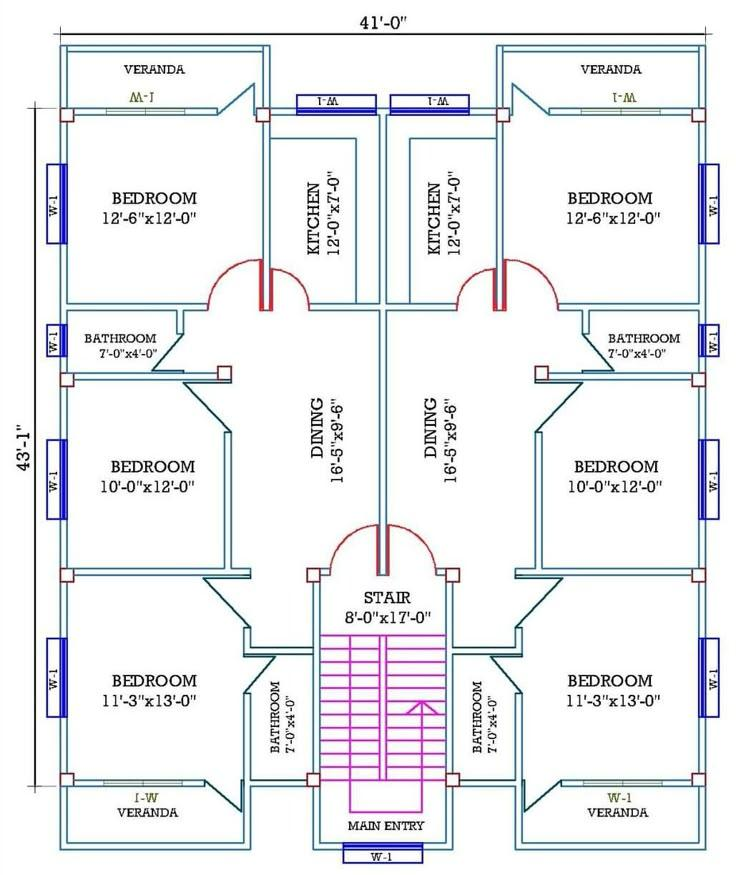Blueprint: (53, 37, 714, 861)
wall: (377, 112, 389, 577), (500, 41, 700, 56), (310, 580, 324, 776), (495, 44, 505, 312), (261, 118, 273, 312), (518, 840, 703, 852), (66, 43, 264, 54), (64, 841, 253, 852), (72, 370, 219, 384), (444, 580, 454, 775), (513, 691, 525, 852), (71, 567, 254, 577), (242, 690, 253, 852), (556, 301, 702, 313), (513, 567, 694, 576), (546, 371, 693, 382), (307, 302, 458, 312), (65, 302, 209, 312), (534, 429, 544, 571), (224, 431, 233, 570), (248, 644, 316, 659), (58, 242, 69, 326), (697, 242, 707, 326), (696, 783, 708, 853), (696, 43, 708, 111), (311, 784, 323, 851), (58, 784, 69, 851), (58, 580, 70, 640), (58, 44, 69, 109), (449, 645, 518, 655), (444, 784, 454, 852), (697, 715, 708, 776), (261, 43, 271, 110), (697, 580, 708, 640), (695, 119, 709, 166), (58, 716, 69, 774), (58, 384, 69, 441), (457, 778, 518, 788), (697, 385, 707, 442), (248, 778, 310, 787), (59, 517, 69, 570), (697, 517, 707, 570), (59, 120, 69, 166), (548, 105, 584, 117), (657, 105, 695, 116), (268, 105, 298, 118), (72, 778, 106, 789), (72, 106, 108, 116), (183, 106, 219, 116), (580, 308, 592, 338), (513, 626, 525, 655), (421, 841, 455, 851), (317, 840, 345, 852), (662, 777, 695, 787), (242, 625, 253, 655), (559, 777, 586, 789), (180, 778, 207, 788), (176, 307, 185, 335), (58, 354, 69, 375), (697, 355, 707, 375), (374, 105, 392, 115), (317, 566, 333, 577), (433, 566, 447, 577)
